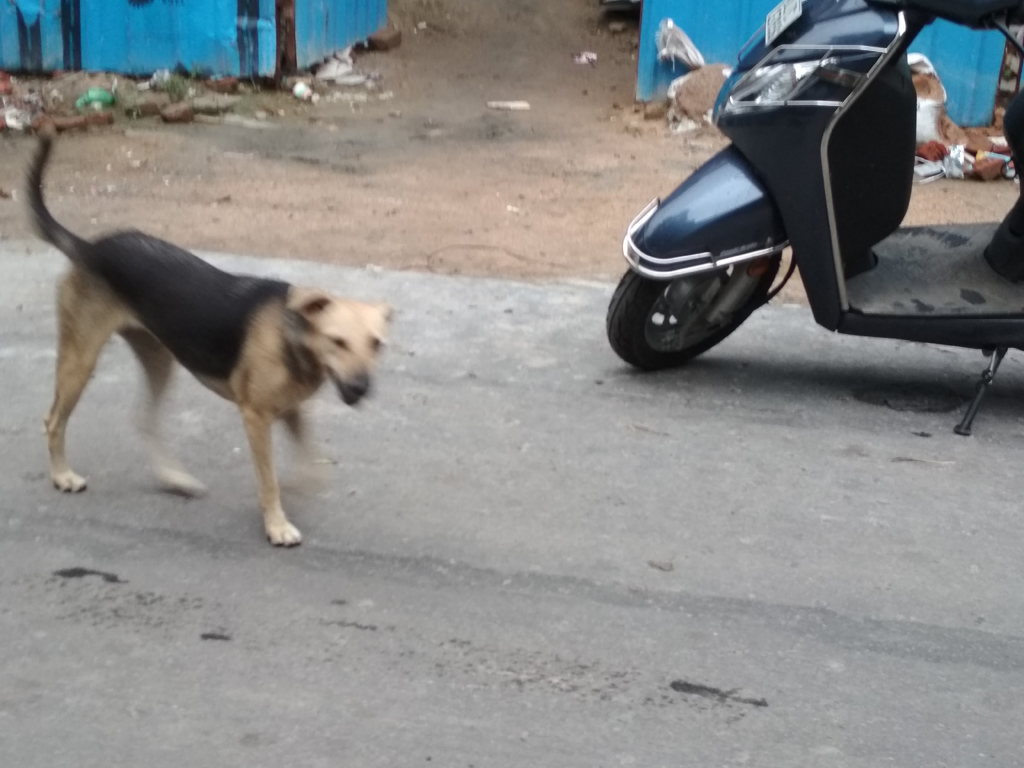dog: (27, 133, 396, 547)
